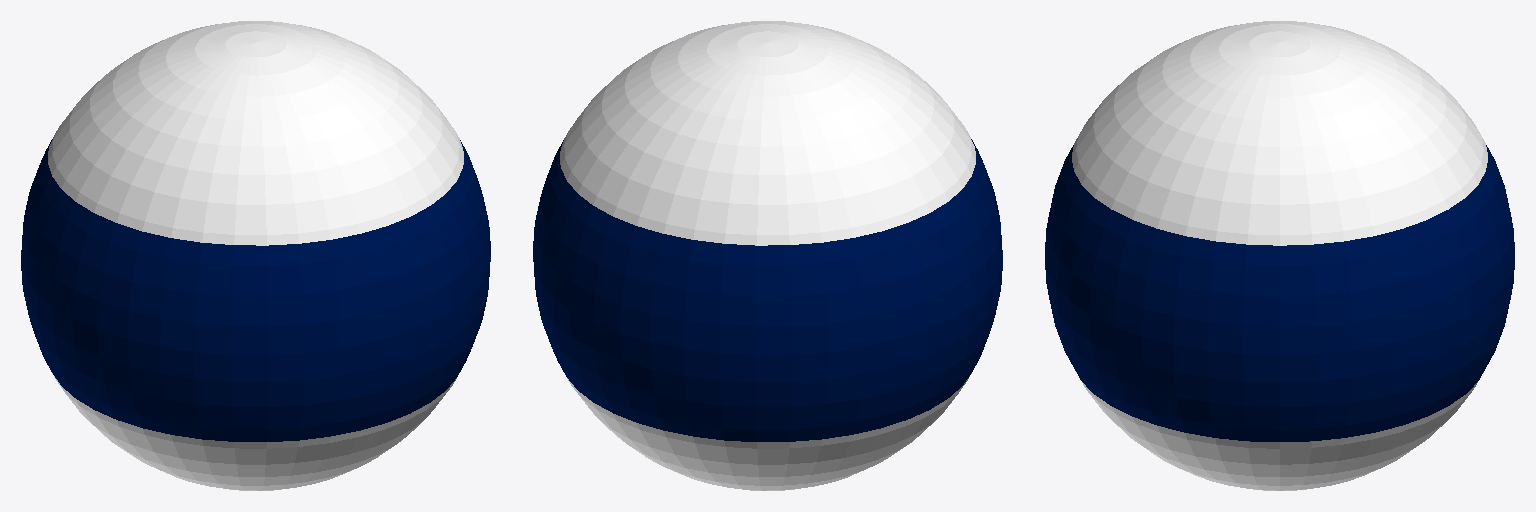
3 renders of one model, left to right at view 1: azimuth 30°, elevation 25°; view 2: azimuth 150°, elevation 25°; view 3: azimuth 270°, elevation 25°, orthographic.
Parts seen in each view (by area): view 1: 球_球.001; view 2: 球_球.001; view 3: 球_球.001.
Boxes of the visible parts, <box> form: 球_球.001: <box>21,21,490,490</box>; 球_球.001: <box>533,21,1002,490</box>; 球_球.001: <box>1045,21,1514,490</box>.
Bounding box in the file's own units: 2 × 2 × 2.
Materials: 1 (1 with a texture image).